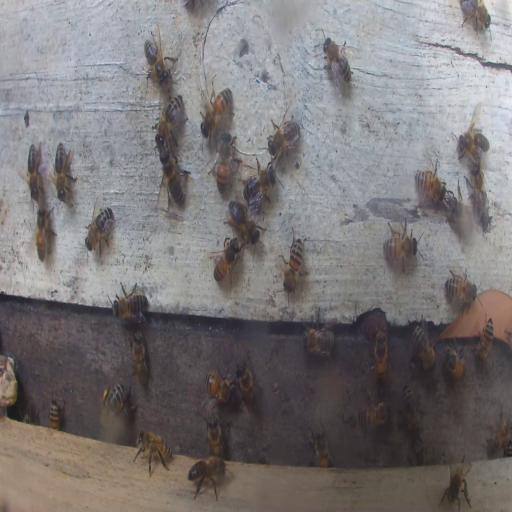bee: (156, 147, 190, 210), (454, 107, 490, 165), (199, 81, 232, 139), (132, 429, 172, 476), (441, 452, 472, 512), (143, 31, 176, 87), (242, 158, 278, 209), (320, 34, 352, 89), (84, 200, 116, 254), (187, 455, 227, 498), (267, 113, 301, 161), (465, 163, 489, 230), (282, 231, 306, 298), (383, 222, 421, 264), (110, 283, 148, 323), (226, 200, 259, 244), (211, 235, 241, 283), (444, 267, 478, 309), (154, 95, 184, 142), (52, 141, 76, 199), (486, 406, 511, 458), (410, 322, 436, 371), (99, 381, 125, 428), (301, 322, 336, 356), (414, 165, 446, 202), (34, 202, 54, 261), (130, 329, 150, 386), (448, 197, 474, 240), (215, 132, 233, 194), (358, 395, 389, 430), (236, 363, 257, 412), (310, 422, 332, 466), (460, 2, 492, 32), (206, 368, 234, 402), (26, 141, 42, 199), (402, 384, 420, 432), (442, 346, 468, 378), (475, 317, 493, 362), (207, 414, 224, 459), (374, 328, 387, 386), (49, 398, 62, 431)
